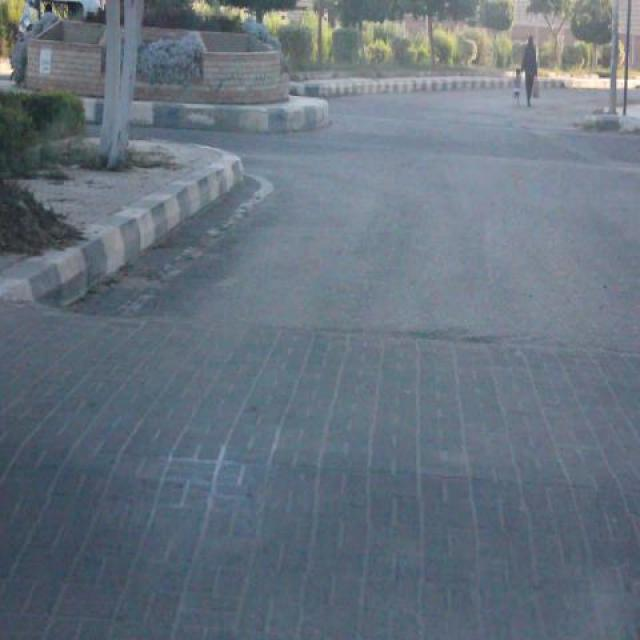Unmarked Bump: (1, 294, 640, 640)
